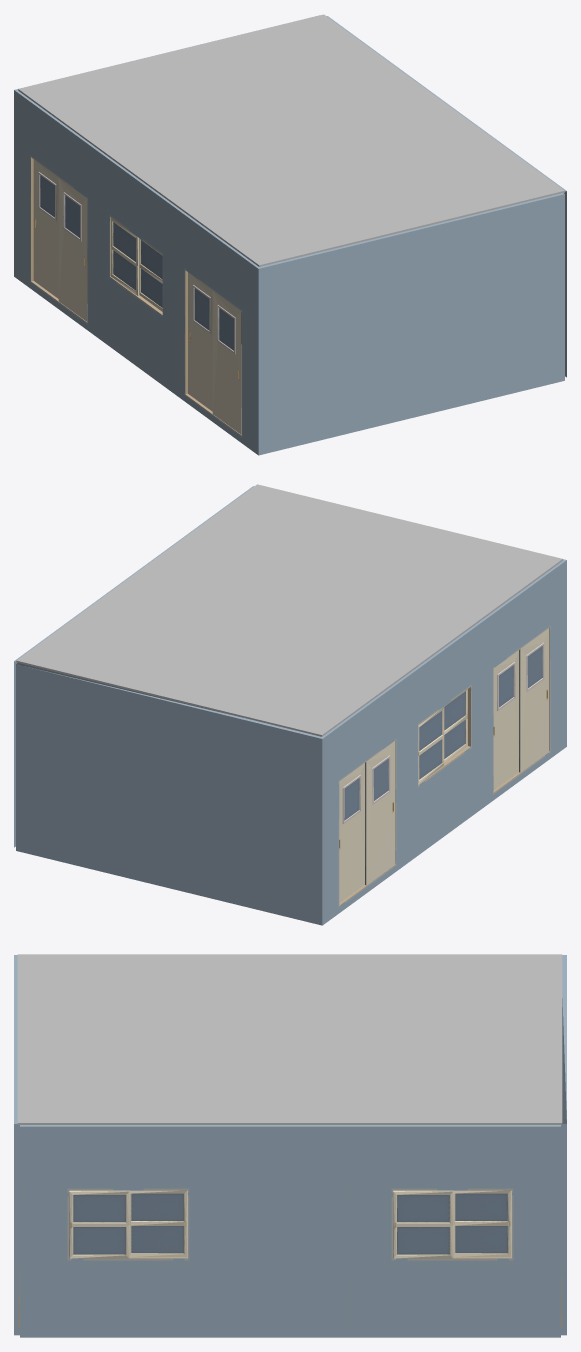
The model's file is science lab.fbx.
3 views of the same model, one above another, from view 1: azimuth 30°, elevation 25°; view 2: azimuth 150°, elevation 25°; view 3: azimuth 270°, elevation 25° (orthographic). The views are drawn at different scales.
Parts seen in each view (by area): view 1: Science lab_wall, Science lab_ Roof, Science lab_ Window Door; view 2: Science lab_wall, Science lab_ Roof, Science lab_ Window Door; view 3: Science lab_wall, Science lab_ Roof, Science lab_ Window Door.
Boxes of the visible parts, x1=… form: Science lab_wall: x1=14, y1=15, x2=566, y2=455; Science lab_ Roof: x1=18, y1=14, x2=564, y2=266; Science lab_ Window Door: x1=33, y1=159, x2=241, y2=434; Science lab_wall: x1=14, y1=486, x2=566, y2=925; Science lab_ Roof: x1=16, y1=484, x2=562, y2=736; Science lab_ Window Door: x1=339, y1=628, x2=549, y2=902; Science lab_wall: x1=14, y1=955, x2=566, y2=1337; Science lab_ Roof: x1=17, y1=954, x2=562, y2=1124; Science lab_ Window Door: x1=69, y1=1190, x2=511, y2=1258.
Size of the model in its own units: 8.68 by 5.01 by 11.78.
